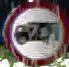Heavy Vehicles: (3, 2, 67, 66)
